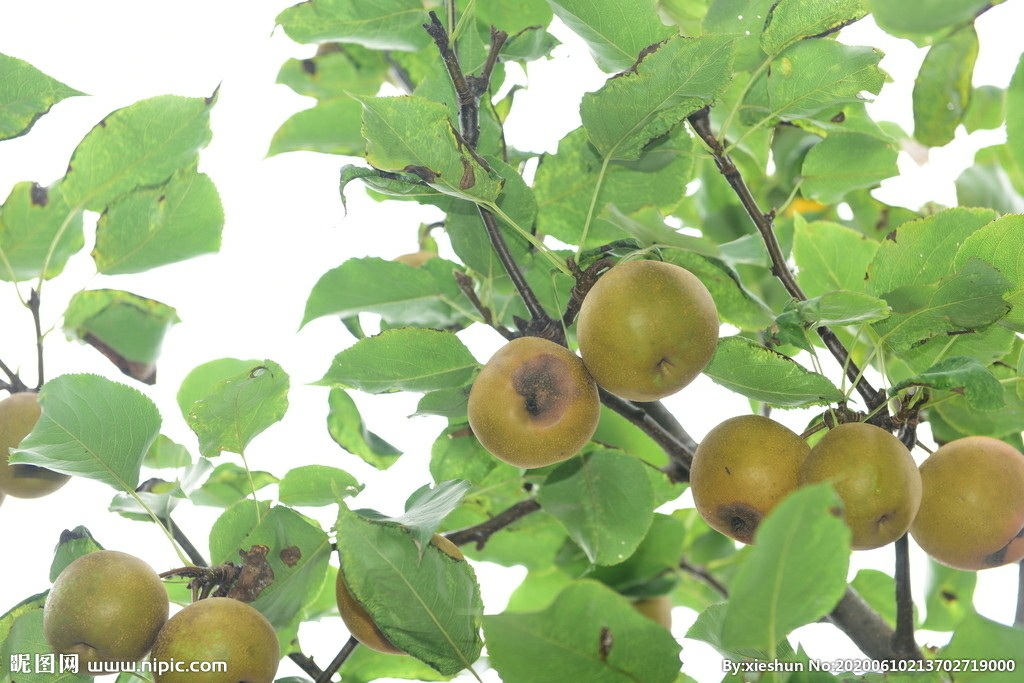pear: (574, 257, 722, 404), (467, 336, 601, 467), (690, 413, 815, 548), (908, 435, 1024, 571), (799, 422, 919, 550), (44, 547, 171, 666), (153, 597, 283, 683), (1, 389, 89, 497)
